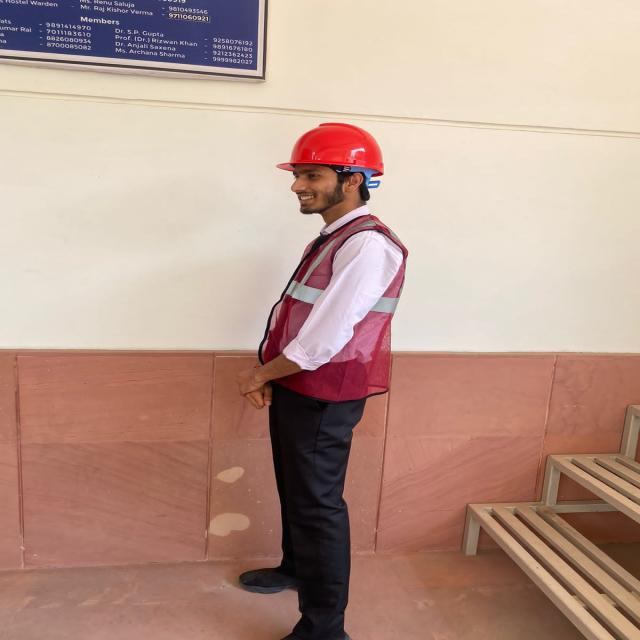safe: (256, 122, 408, 640)
